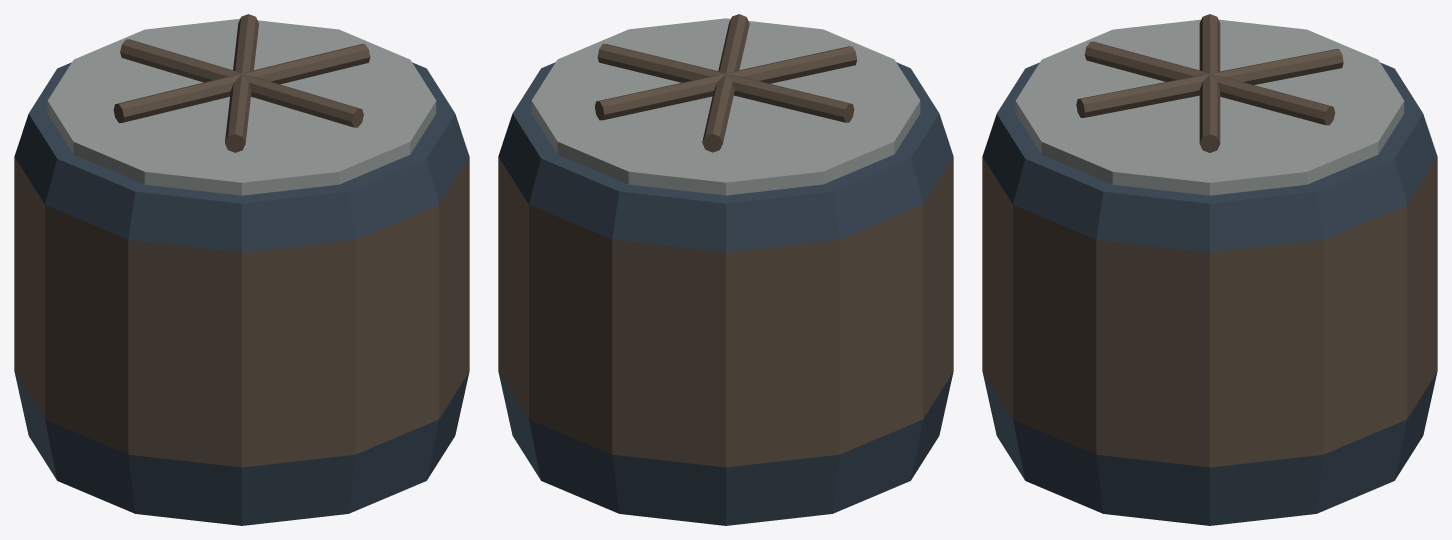
Rendered from drum.glb.
The picture shows the model from 3 angles, left to right: view 1: azimuth 30°, elevation 25°; view 2: azimuth 150°, elevation 25°; view 3: azimuth 270°, elevation 25°; orthographic projection.
Visible parts, largest first — view 1: drum__body; view 2: drum__body; view 3: drum__body.
Part boxes in pixels (<box>): drum__body: <box>14,14,469,525</box>; drum__body: <box>498,14,953,525</box>; drum__body: <box>982,14,1437,525</box>.
Bounding box in the file's own units: 0.96 × 0.842 × 0.96.
